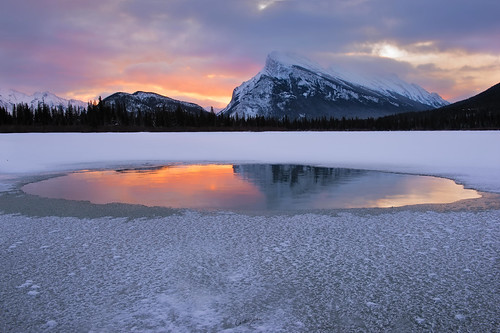mountain: (238, 43, 437, 118), (86, 84, 226, 124), (1, 83, 91, 111)
sky: (1, 1, 485, 84)
vegetation: (4, 109, 500, 133)
